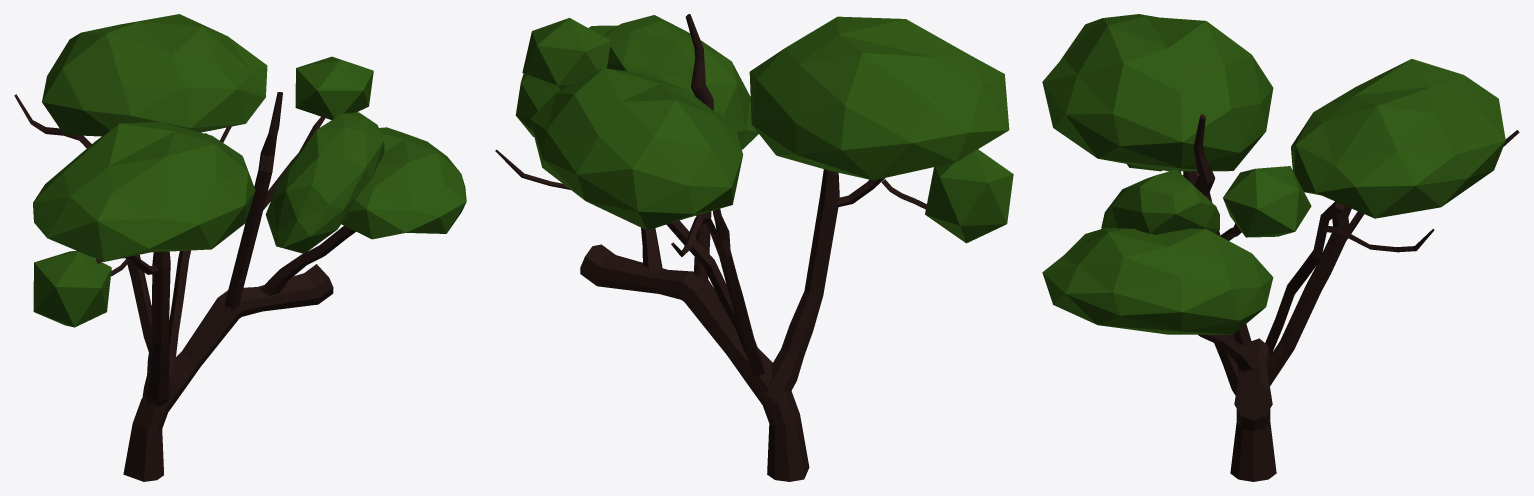
The model's file is SM_tree_b_01.FBX.
3 views of the same model, side by side, from view 1: azimuth 30°, elevation 25°; view 2: azimuth 150°, elevation 25°; view 3: azimuth 270°, elevation 25° (orthographic). The views are drawn at different scales.
Visible parts, largest first — view 1: Object033; view 2: Object033; view 3: Object033.
Part boxes in pixels (x1,y1,x2,y2): Object033: (14,14,466,481); Object033: (495,14,1013,481); Object033: (1042,14,1519,481).
Bounding box in the file's own units: 811 × 693 × 695.
